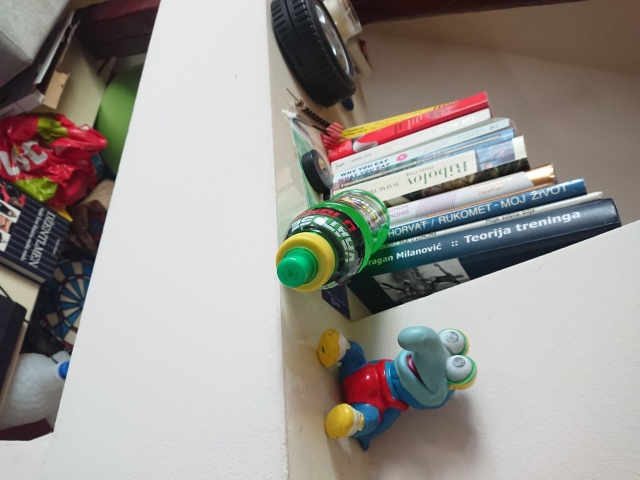Vindi Iso Sport Lemon-Grapefruit 500mL: (273, 186, 392, 295)
